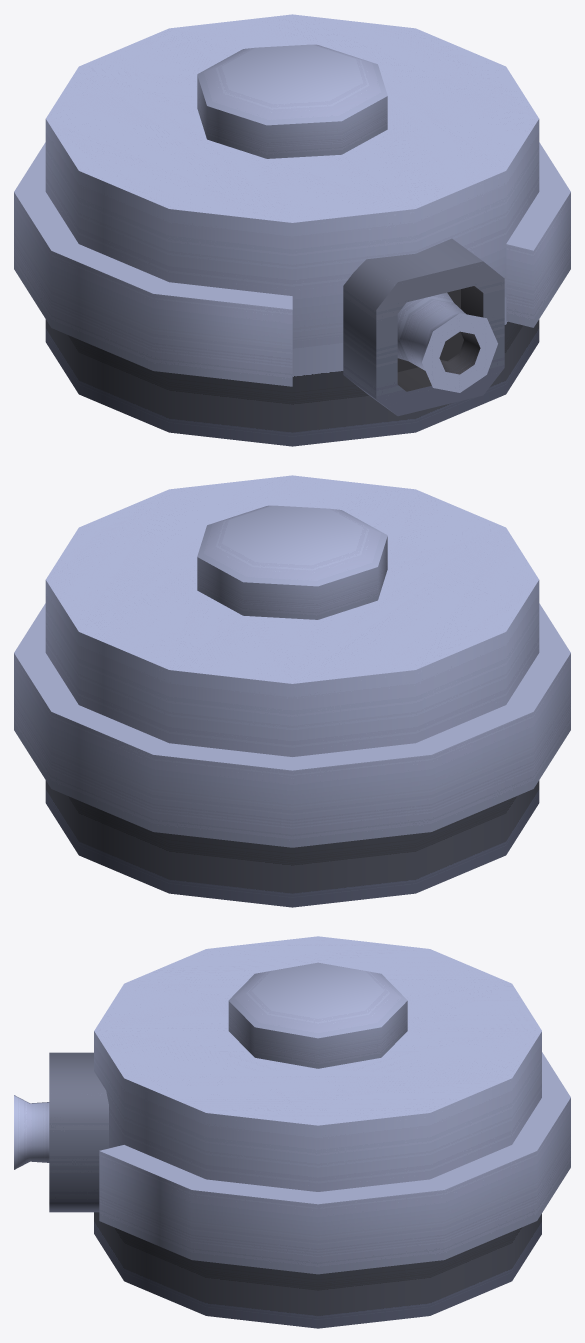
Rendered from tower-round-middle-b.glb.
3 views of the same model, one above another, from view 1: azimuth 30°, elevation 25°; view 2: azimuth 150°, elevation 25°; view 3: azimuth 270°, elevation 25° (orthographic). The views are drawn at different scales.
Parts seen in each view (by area): view 1: tower-round-middle-b; view 2: tower-round-middle-b; view 3: tower-round-middle-b.
Boxes of the visible parts, x1,y1,x2,y2 form: tower-round-middle-b: (14,14,570,446); tower-round-middle-b: (14,475,570,907); tower-round-middle-b: (14,936,570,1328).
Bounding box in the file's own units: 3.39 × 1.8 × 3.73.
Materials: 1 (1 with a texture image).
